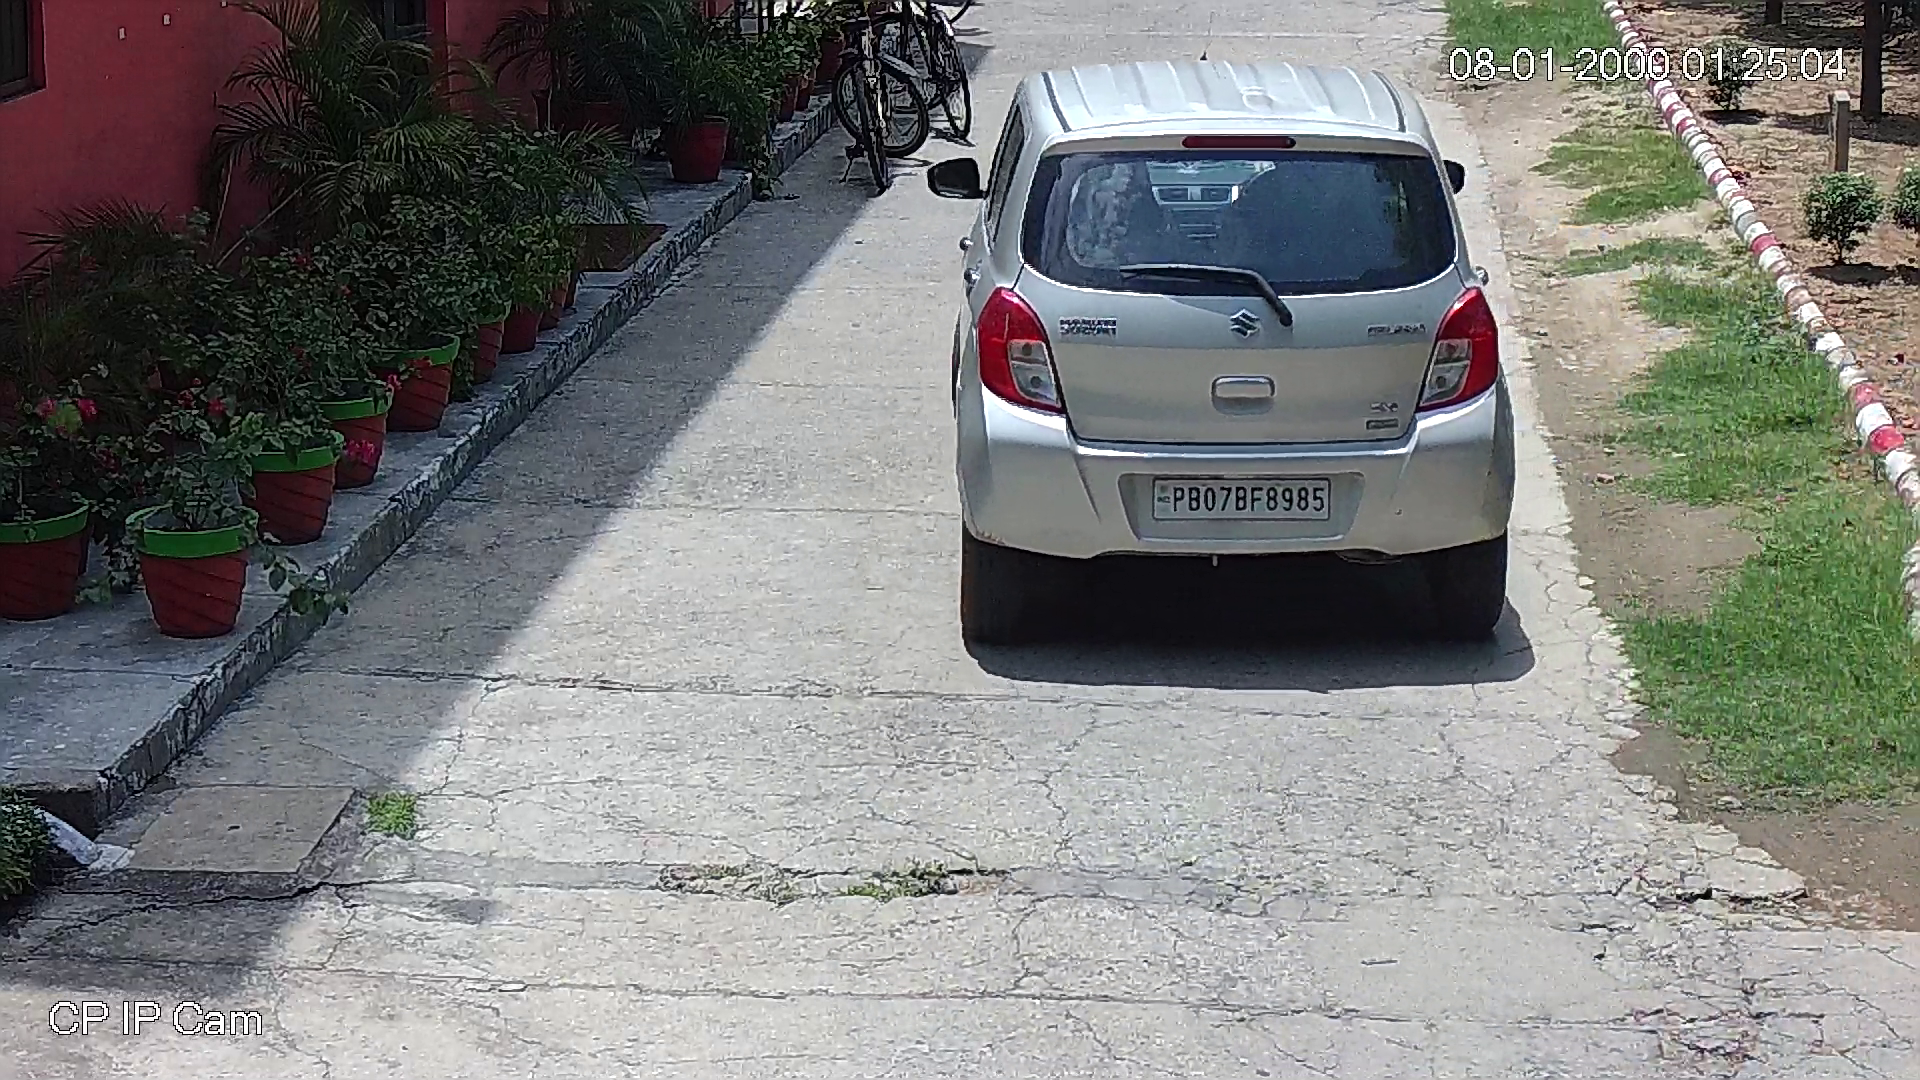plate: (1158, 478, 1329, 521)
